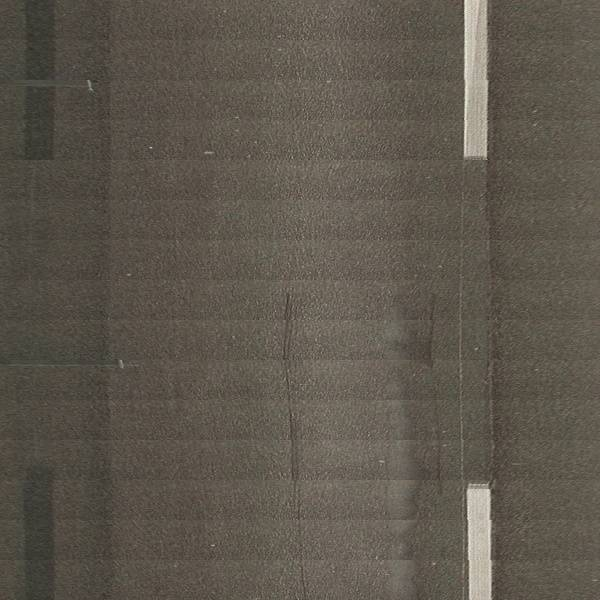road_damage: (279, 297, 305, 498)
